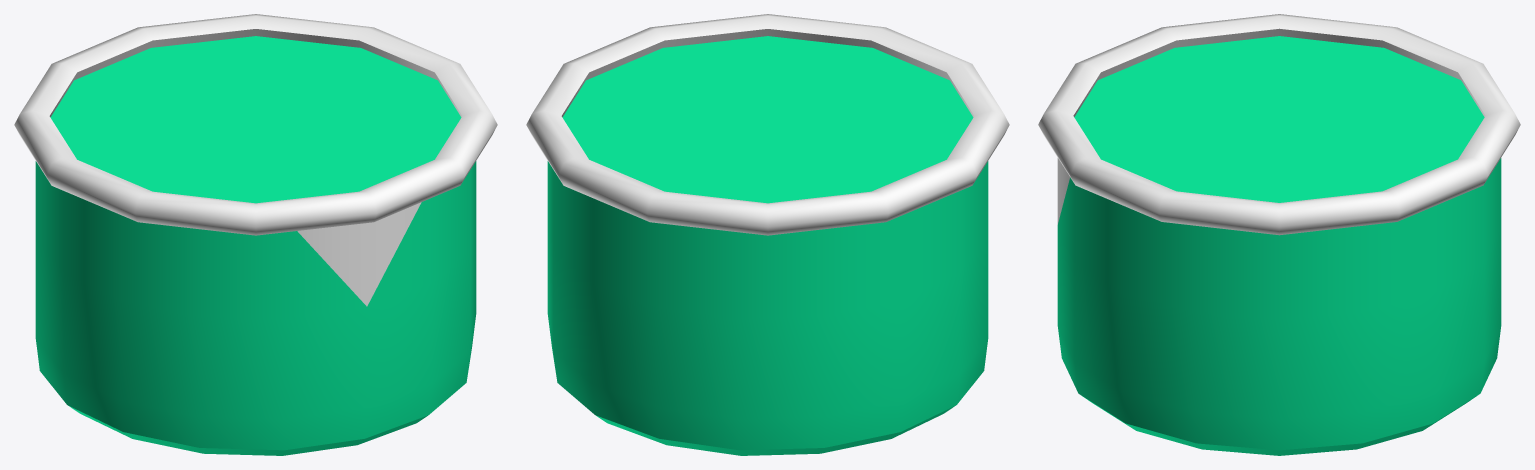
Rendered from Body_Dress_06.fbx.
3 renders of one model, left to right at view 1: azimuth 30°, elevation 25°; view 2: azimuth 150°, elevation 25°; view 3: azimuth 270°, elevation 25°, orthographic.
Parts seen in each view (by area): view 1: Body_Dress_06; view 2: Body_Dress_06; view 3: Body_Dress_06.
Part boxes in pixels (left/top/right/bottom): Body_Dress_06: left=14, top=14, right=497, bottom=455; Body_Dress_06: left=526, top=14, right=1009, bottom=455; Body_Dress_06: left=1038, top=14, right=1520, bottom=455.
Size of the model in its own units: 109 by 64.65 by 109.
